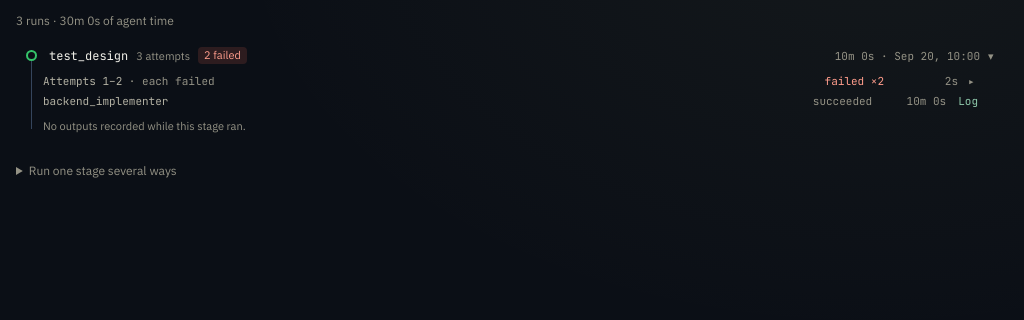
Scenario: a stage that failed more than once › does not claim the same error when the attempts failed differently
The latest stage, so it is open already.
Click the button "Attempts 1–2 · each failed failed ×2 2s ▸" at (73, 81), box x1=43 y1=71 x2=1008 y2=91
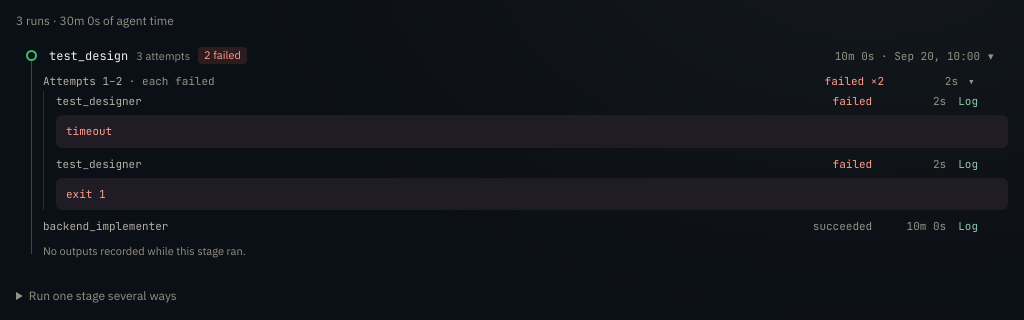
Expected: the text "timeout" is shown, x1=56 y1=115 x2=1008 y2=148
Expected: the text "exit 1" is shown, x1=56 y1=178 x2=1008 y2=210
